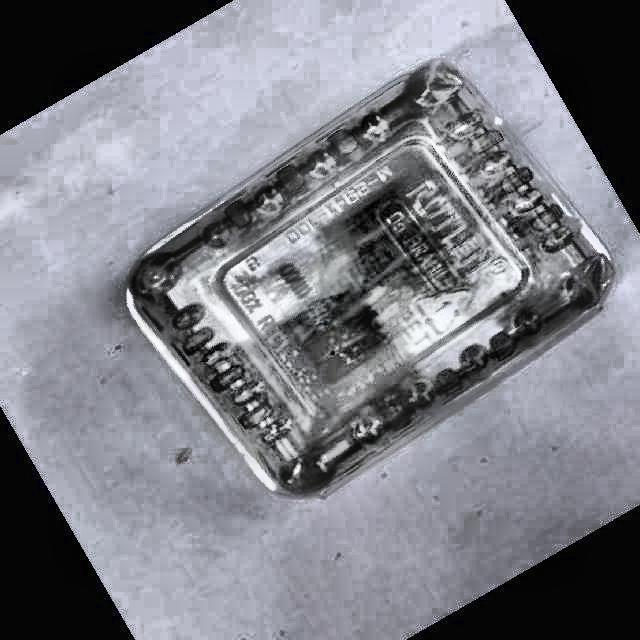plastic: (128, 60, 614, 496)
